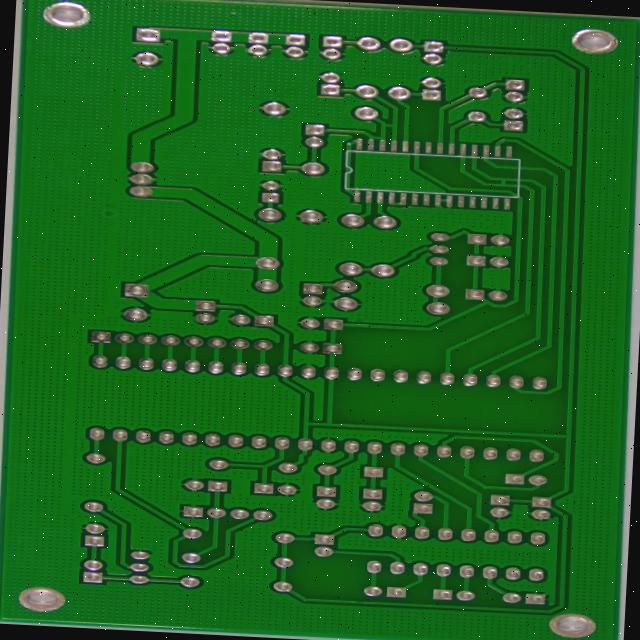short: (460, 127, 488, 143), (599, 189, 630, 203), (446, 144, 469, 154)
